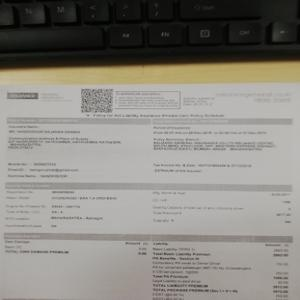image: (6, 89, 38, 100)
table: (6, 114, 294, 183), (3, 233, 294, 299), (4, 181, 292, 237)
